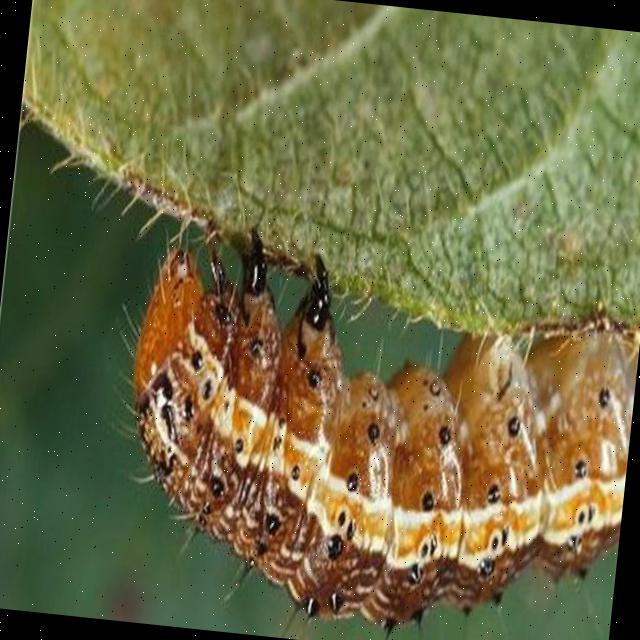worm: (87, 211, 640, 640)
